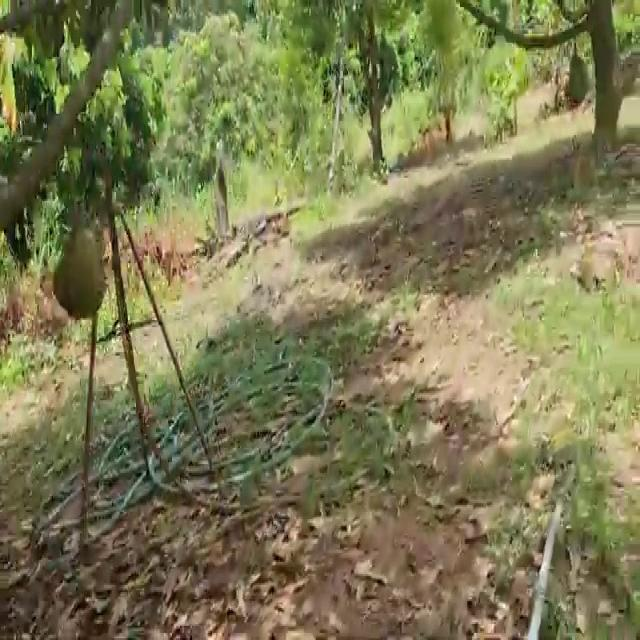durian: (49, 215, 110, 324), (563, 53, 592, 107)
